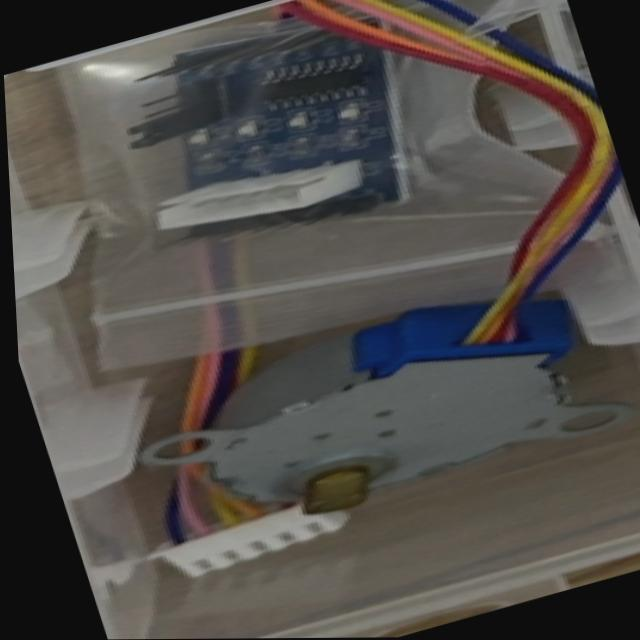Stepper Motor Board: (111, 259, 640, 575), (102, 0, 454, 275)
